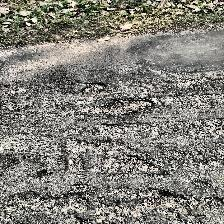pothole: (146, 189, 182, 215), (96, 98, 154, 114), (120, 154, 158, 172), (62, 196, 90, 212), (82, 82, 106, 94)
